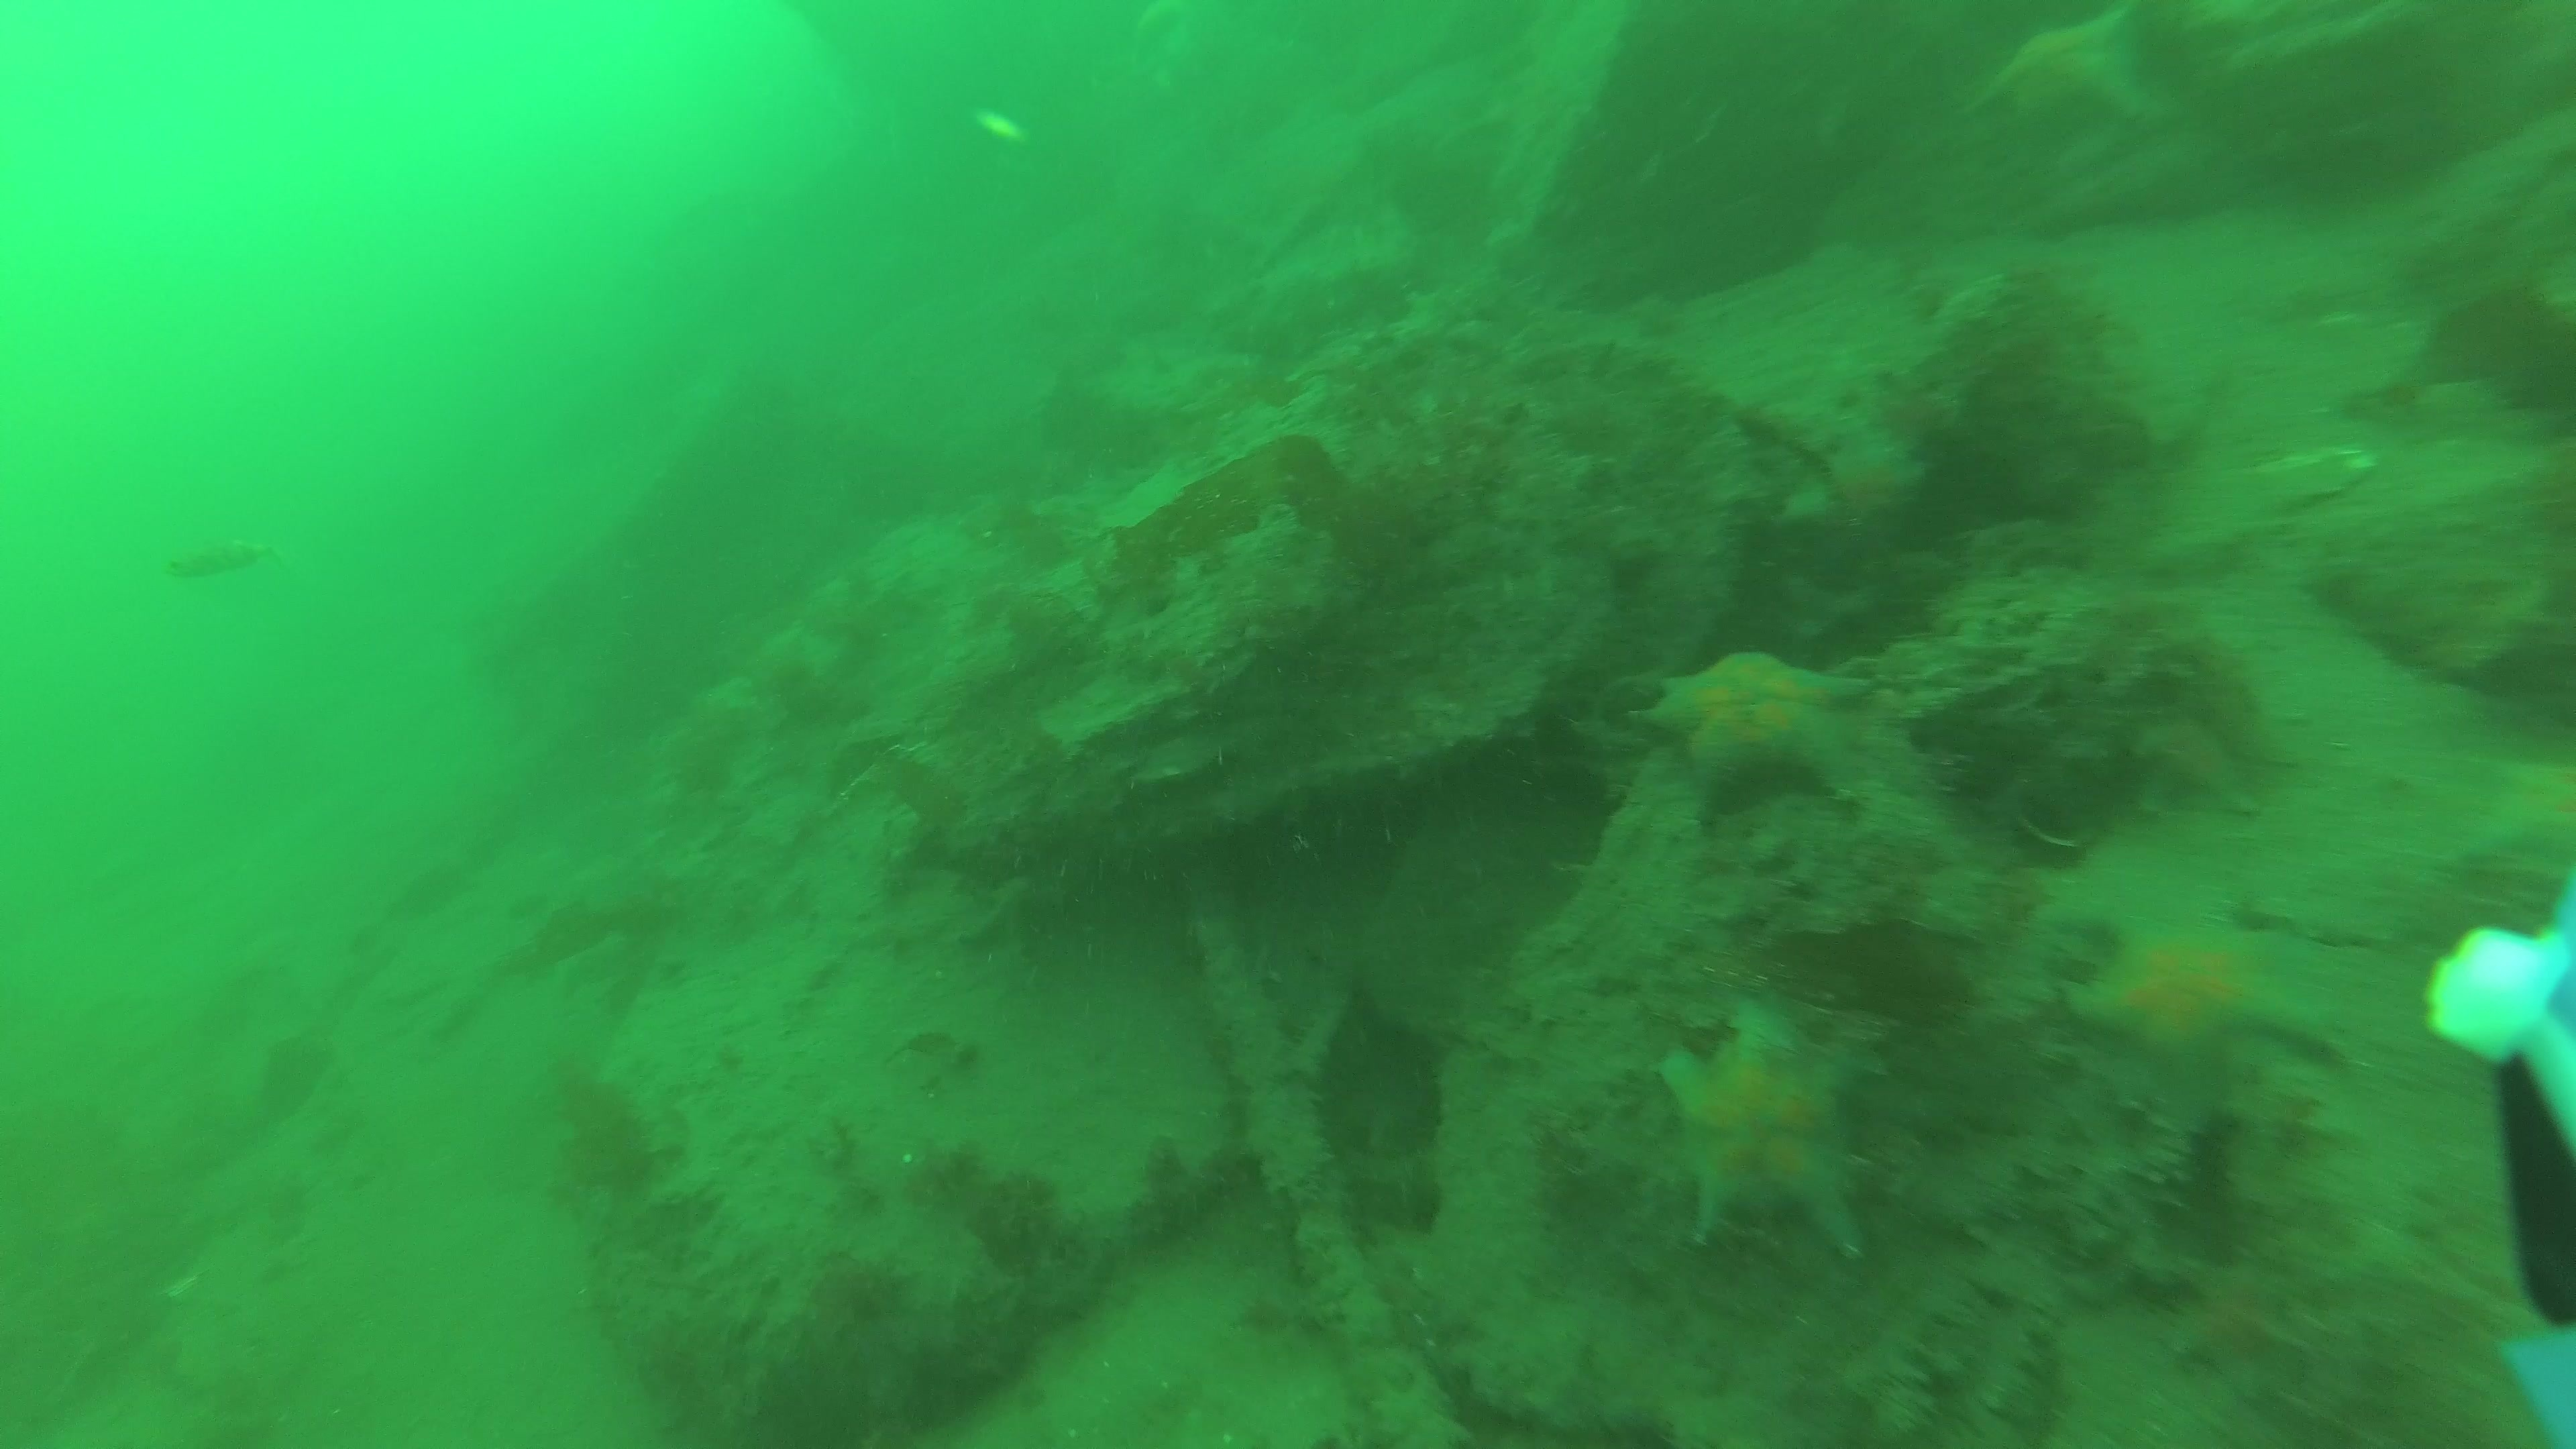holothurian: (1201, 235, 1405, 340)
starfish: (2066, 899, 2342, 1093), (1663, 1000, 1868, 1256), (1626, 653, 1870, 826), (2445, 745, 2576, 872)
